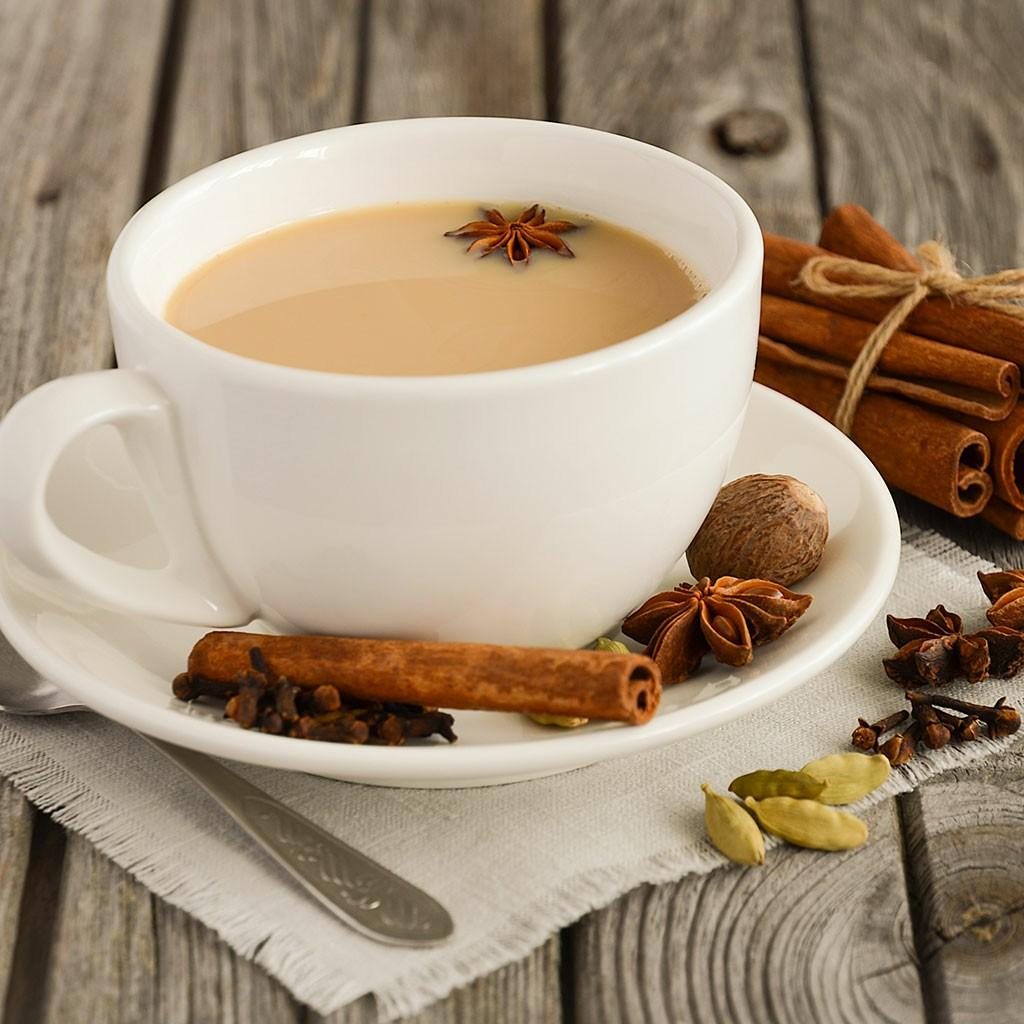Chai: (165, 205, 706, 371)
